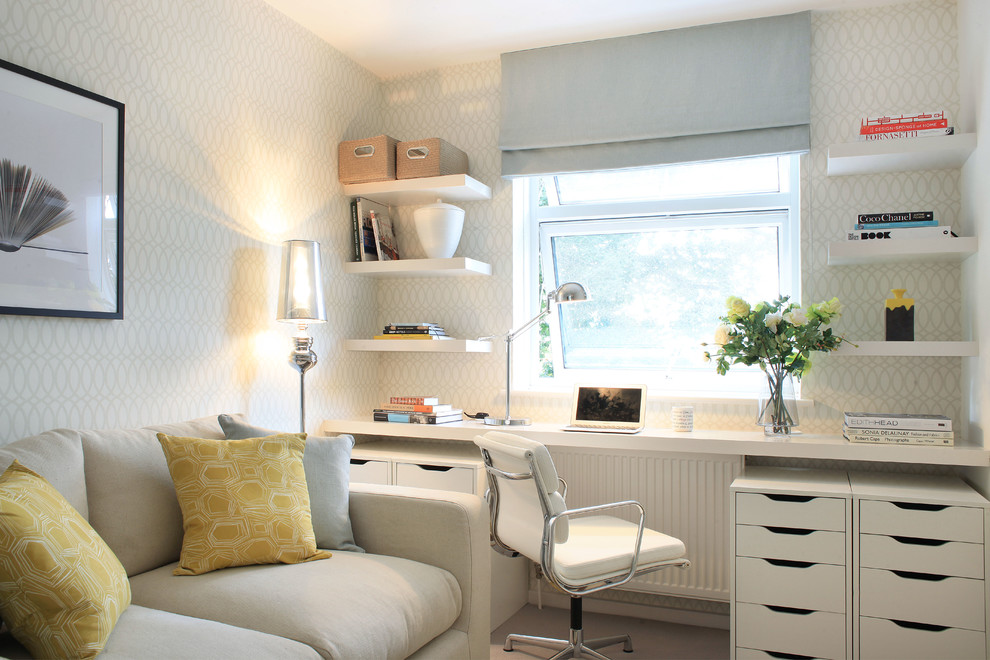chairs: (467, 431, 690, 660)
